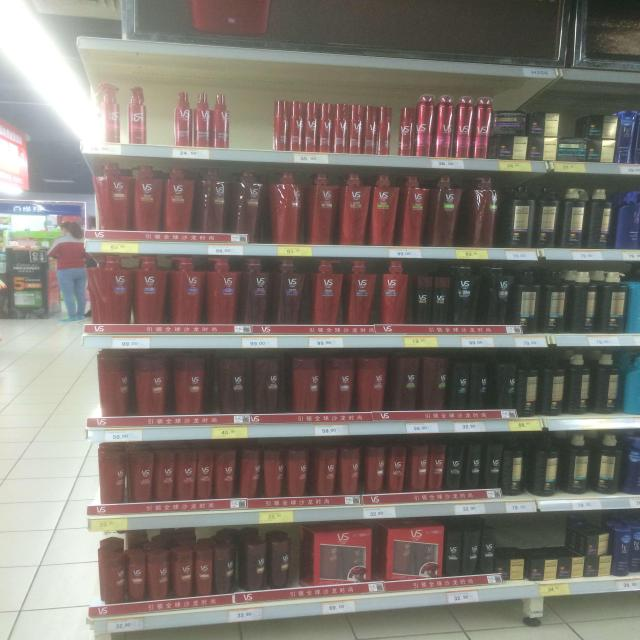empty_space: (234, 90, 268, 150), (148, 91, 173, 142)
